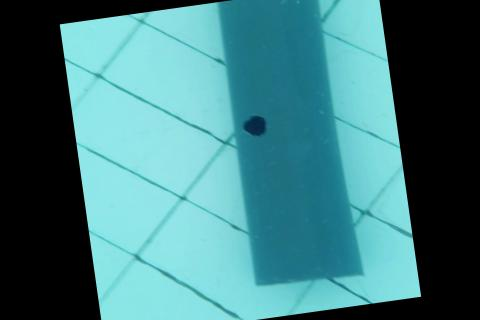kebocoran: (239, 111, 269, 135)
